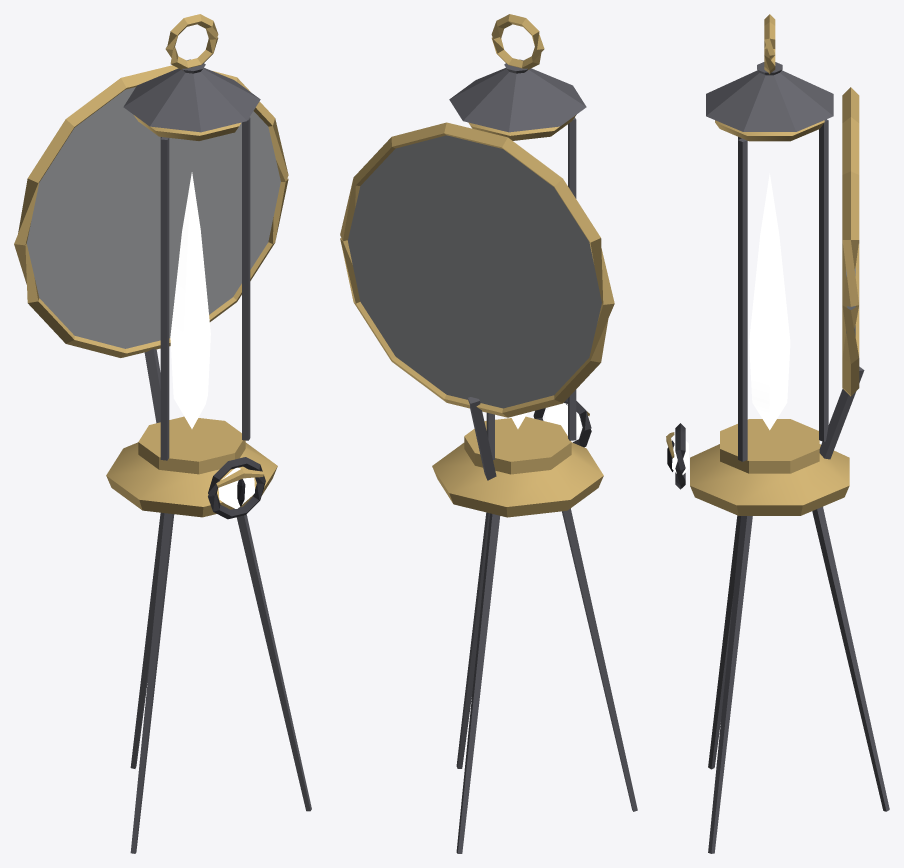
Rendered from lantern-truth-lamp.glb.
The picture shows the model from 3 angles, left to right: view 1: azimuth 30°, elevation 25°; view 2: azimuth 150°, elevation 25°; view 3: azimuth 270°, elevation 25°; orthographic projection.
Parts seen in each view (by area): view 1: lantern_truth_lamp; view 2: lantern_truth_lamp; view 3: lantern_truth_lamp.
Boxes of the visible parts, bbox=[...] form: lantern_truth_lamp: bbox=[14, 14, 311, 853]; lantern_truth_lamp: bbox=[340, 14, 637, 853]; lantern_truth_lamp: bbox=[666, 14, 889, 853].
Bounding box in the file's own units: 0.2775 × 0.7676 × 0.1963.
